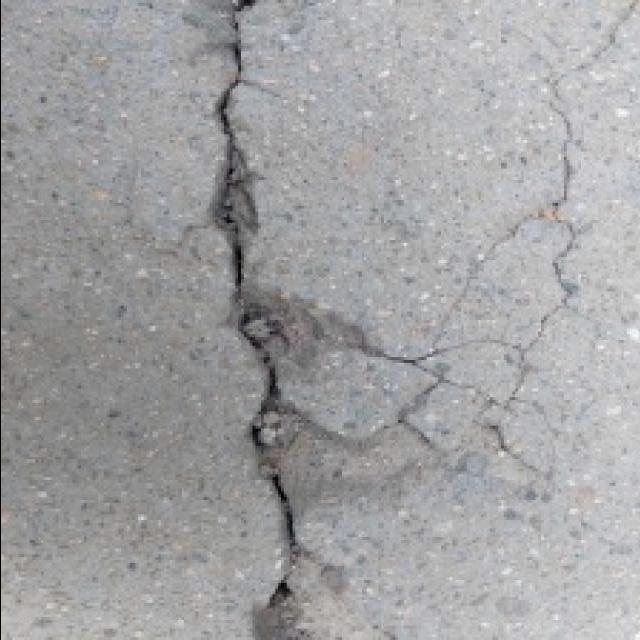SurfaceCrack: (186, 0, 350, 634)
